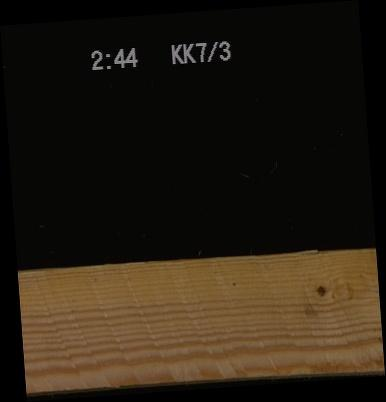dry_knot: (310, 279, 331, 299)
